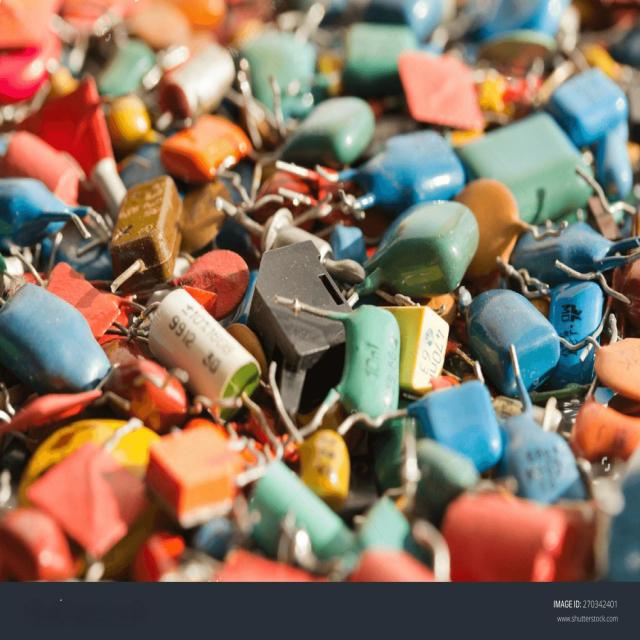Capacitors: (147, 288, 261, 402)
